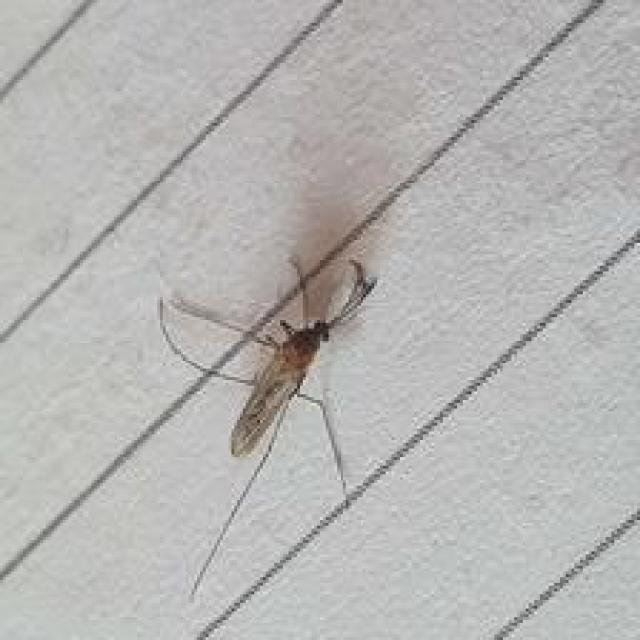Culex: (156, 253, 378, 461)
